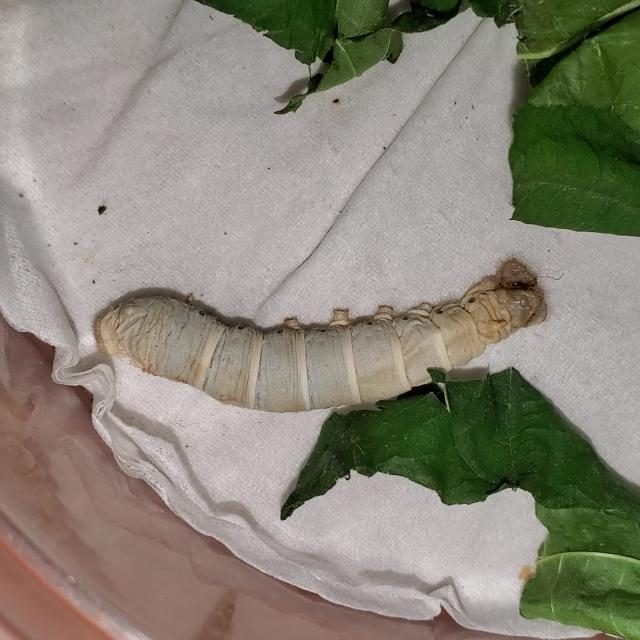Grasserie: (89, 257, 552, 431)
